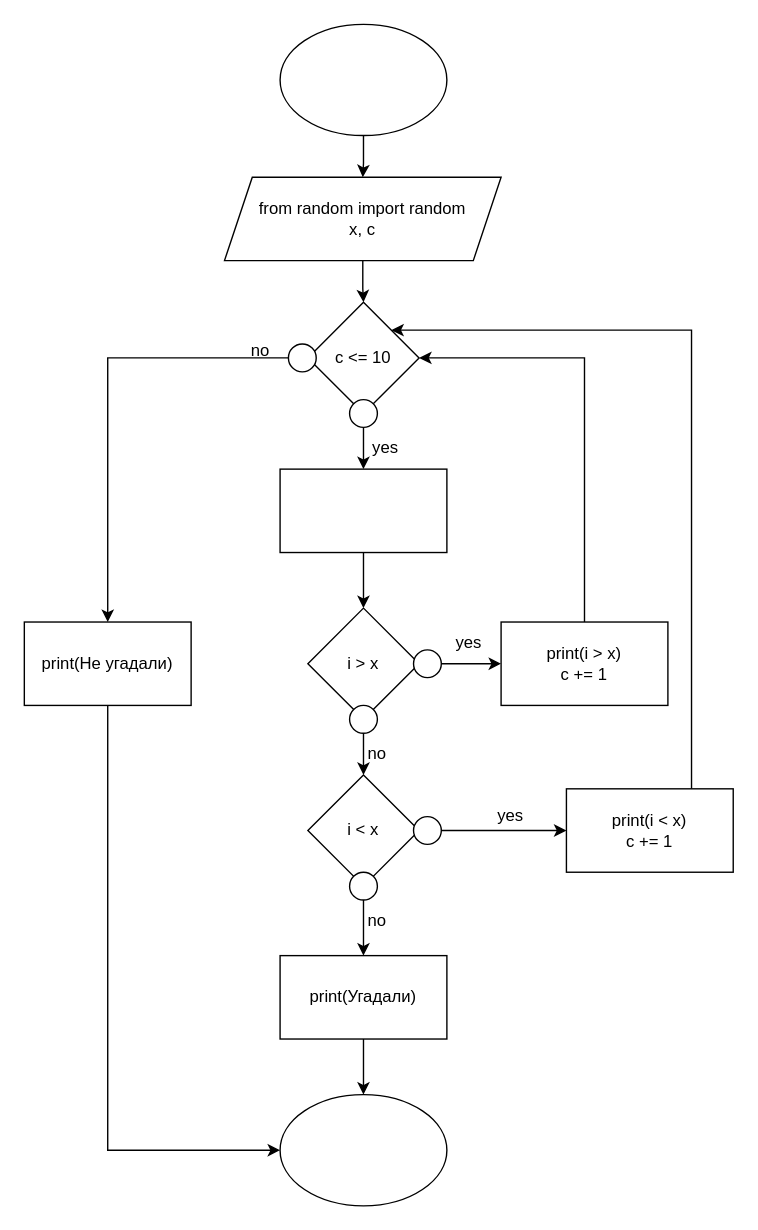
The diagram is 758 pixels wide and 1230 high, and some of its shapes have lost their labels. Each missing label, with the centre of its shape:
input(i): (x=363, y=510)
Конец: (x=363, y=1149)
Начало: (x=363, y=79)
